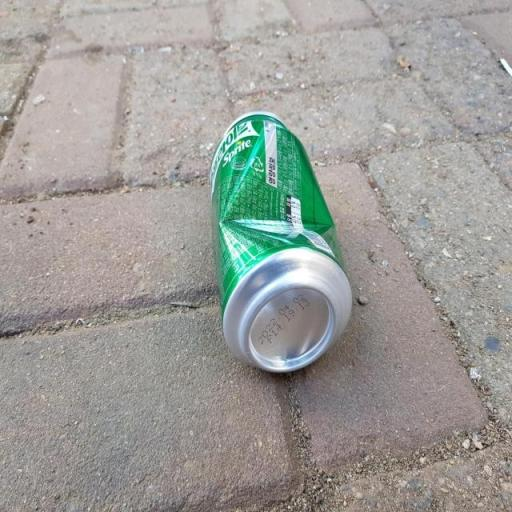metal: (202, 103, 360, 385)
